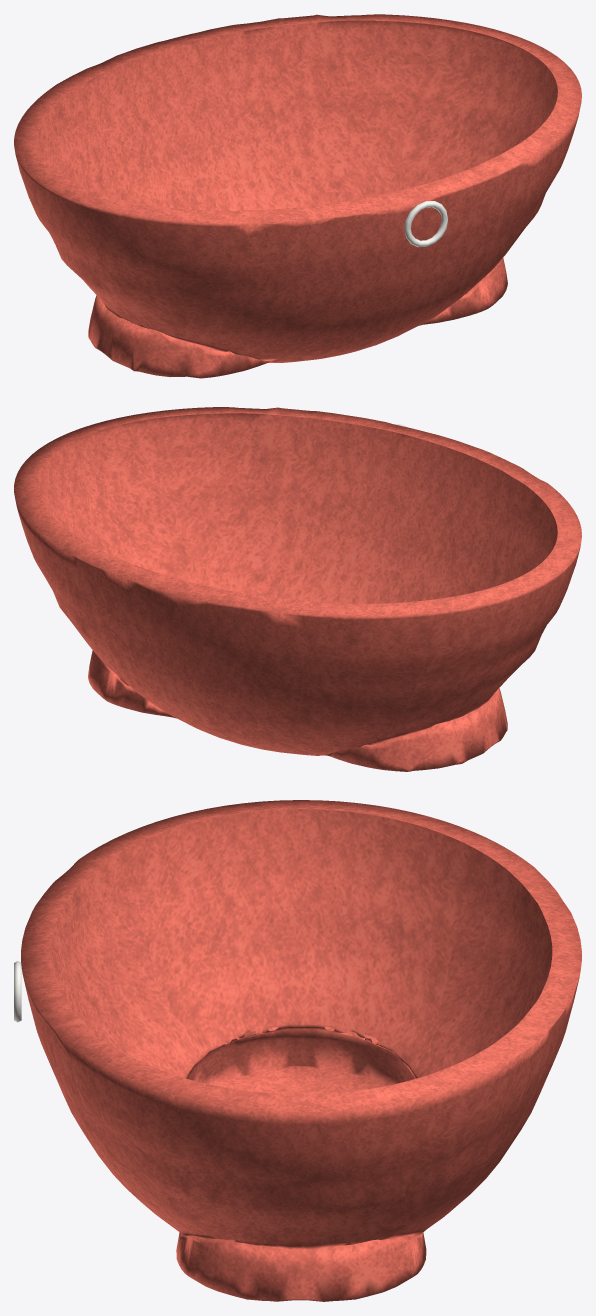
The model's file is shorts3.fbx.
The picture shows the model from 3 angles, top to bottom: view 1: azimuth 30°, elevation 25°; view 2: azimuth 150°, elevation 25°; view 3: azimuth 270°, elevation 25°; orthographic projection. The views are drawn at different scales.
Parts seen in each view (by area): view 1: shorts3; view 2: shorts3; view 3: shorts3.
Boxes of the visible parts, box(x1,y1,x2,y2) form: shorts3: box(14, 14, 581, 378); shorts3: box(14, 407, 581, 771); shorts3: box(14, 800, 581, 1301).
Bounding box in the file's own units: 0.8311 × 0.3457 × 0.6425.
Materials: 2 (1 with a texture image).
